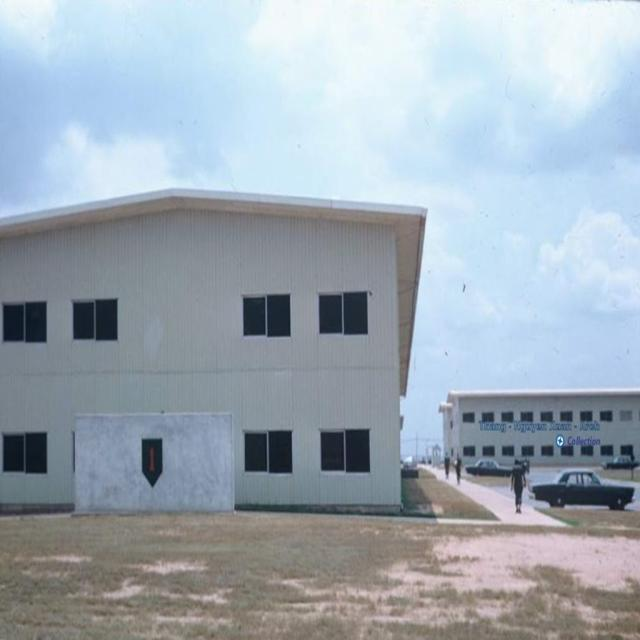car: (528, 467, 635, 507)
